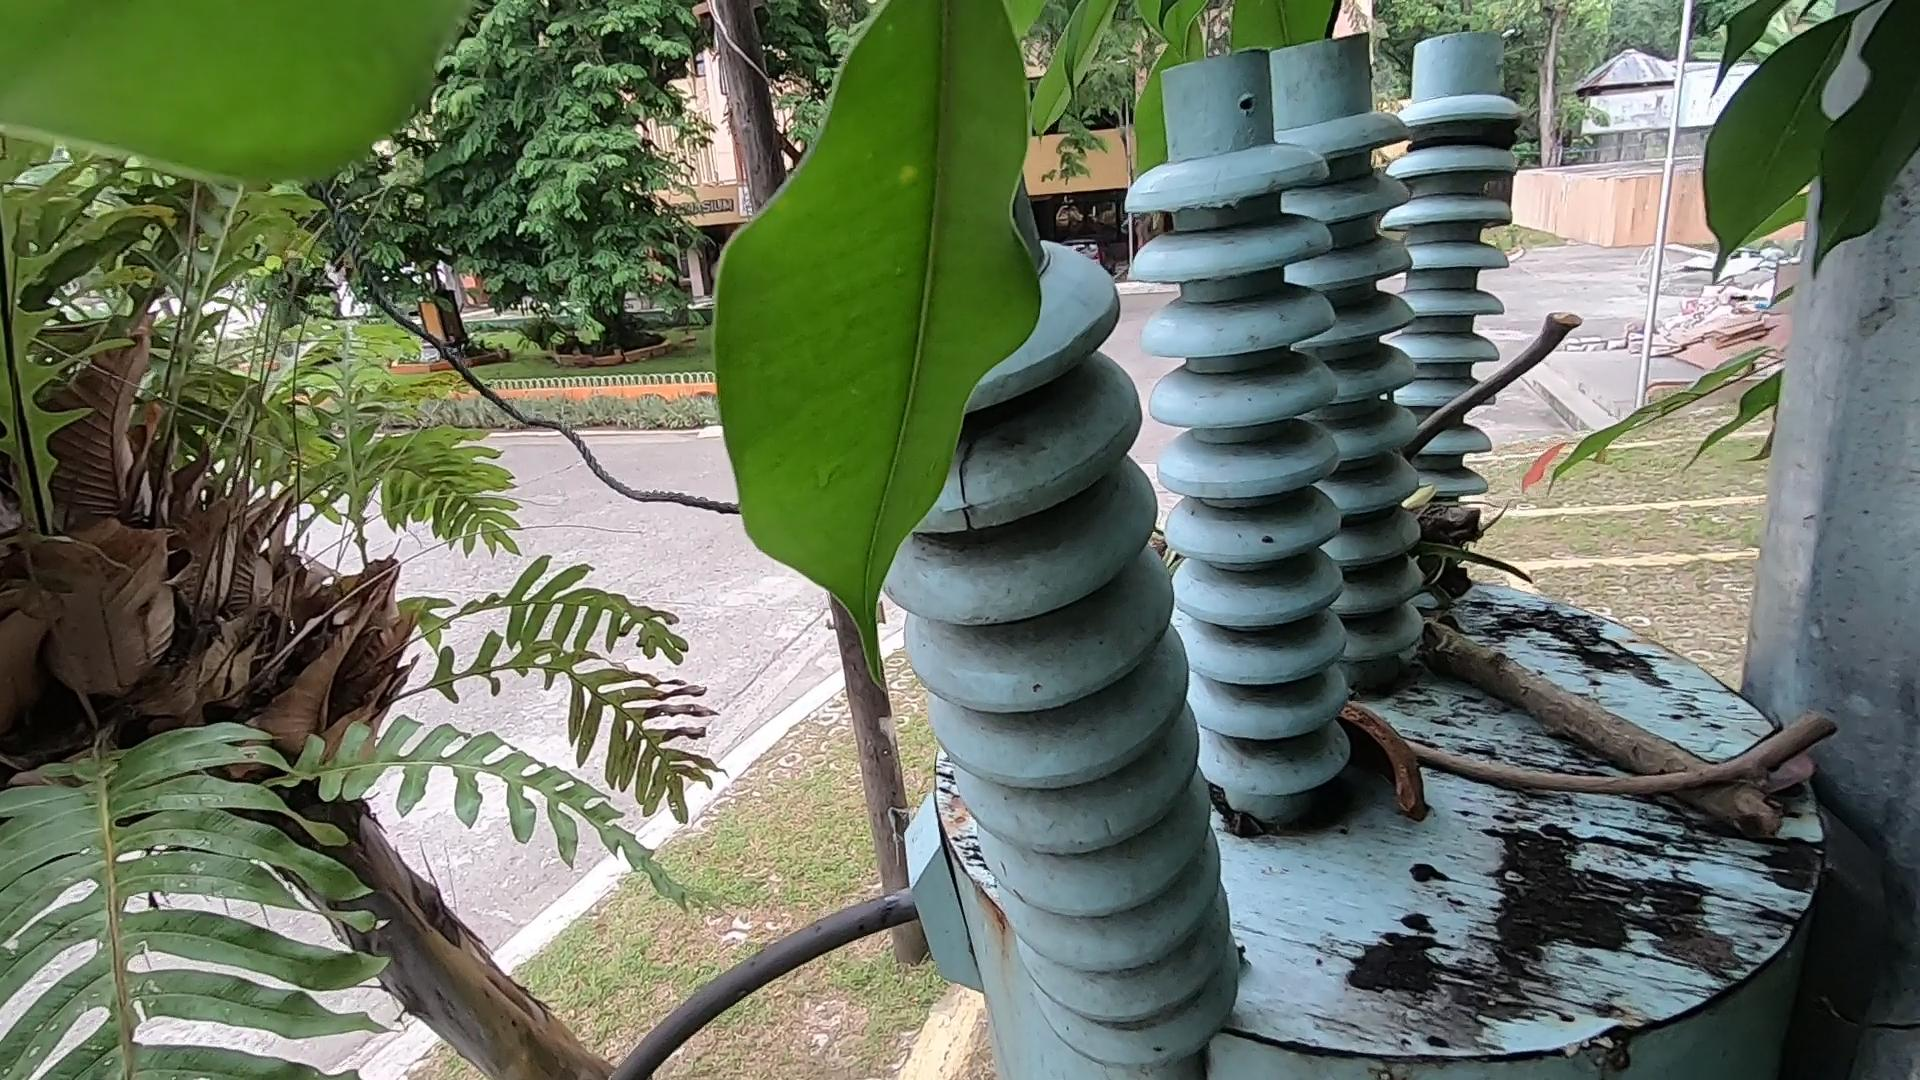branch with leaves: (1366, 454, 1811, 855)
leaf: (1353, 752, 1853, 837), (1754, 671, 1865, 886)
mahogany fruit: (1346, 688, 1468, 862)
tree branch: (1416, 175, 1722, 469)
